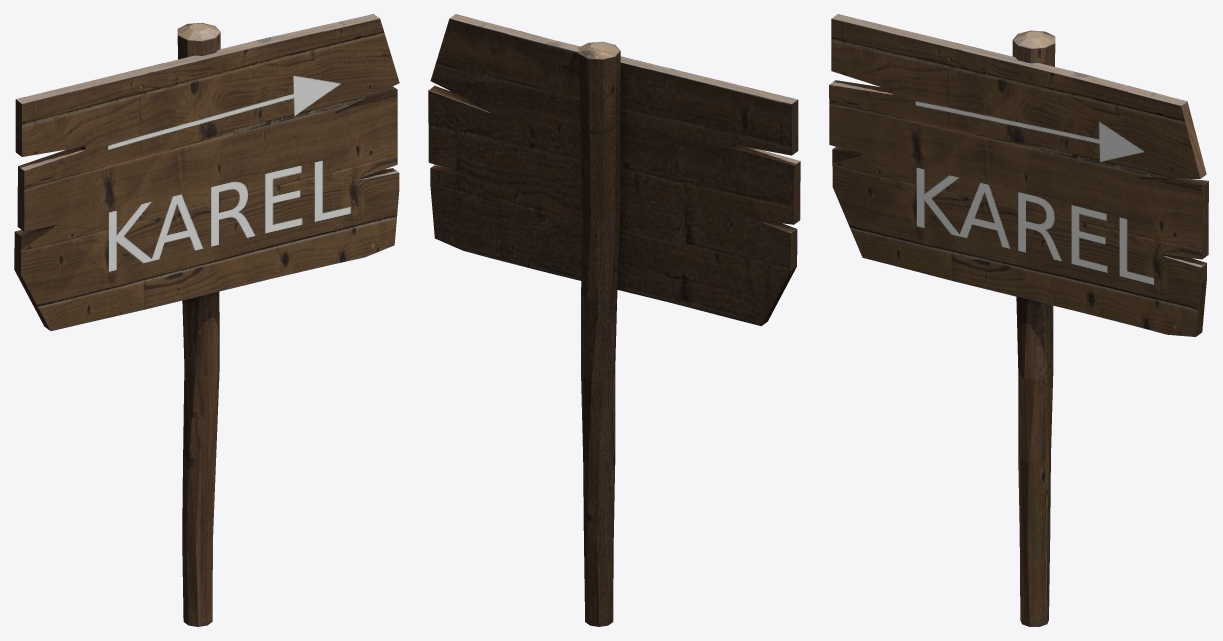
Rendered from arrow-karel.gltf.
The picture shows the model from 3 angles, left to right: view 1: azimuth 30°, elevation 25°; view 2: azimuth 150°, elevation 25°; view 3: azimuth 330°, elevation 25°; orthographic projection. The views are drawn at different scales.
Visible parts, largest first — view 1: Signpost_Tall_Baked_dark_0; view 2: Signpost_Tall_Baked_dark_0; view 3: Signpost_Tall_Baked_dark_0.
Part boxes in pixels (bbox=[...]): Signpost_Tall_Baked_dark_0: bbox=[14, 14, 399, 626]; Signpost_Tall_Baked_dark_0: bbox=[428, 14, 800, 626]; Signpost_Tall_Baked_dark_0: bbox=[829, 14, 1208, 626].
Size of the model in its own units: 2 by 3.02 by 0.2602.
Materials: 1 (1 with a texture image).
